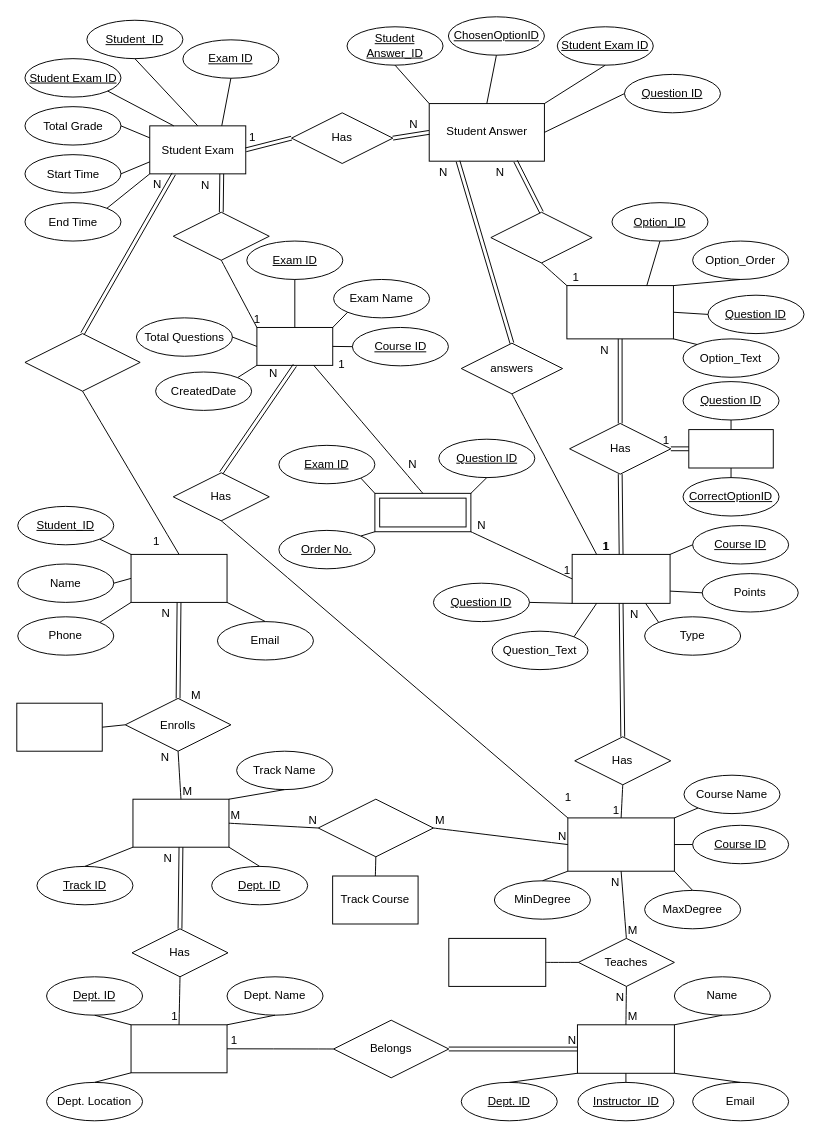
This 821x1138 diagram has some shape labels left out. The shapes that lost their labels are listed below. From the top down, each one's box as (x1, y1, x2, y2) in pixels, then its label:
(172, 211, 269, 260): taken by
(490, 211, 592, 263): selects
(566, 285, 673, 339): Choice
(24, 333, 140, 391): Takes
(256, 326, 333, 365): Exam
(688, 429, 773, 468): Model Answer
(374, 492, 471, 532): Exam Question
(130, 553, 227, 602): Students
(571, 553, 670, 603): Questions
(16, 702, 102, 751): Student Track
(132, 798, 229, 847): Track
(317, 798, 433, 857): Contains
(567, 817, 674, 871): Course
(448, 937, 546, 986): Instructor Course
(130, 1024, 227, 1073): Department
(576, 1024, 674, 1073): Instructor
